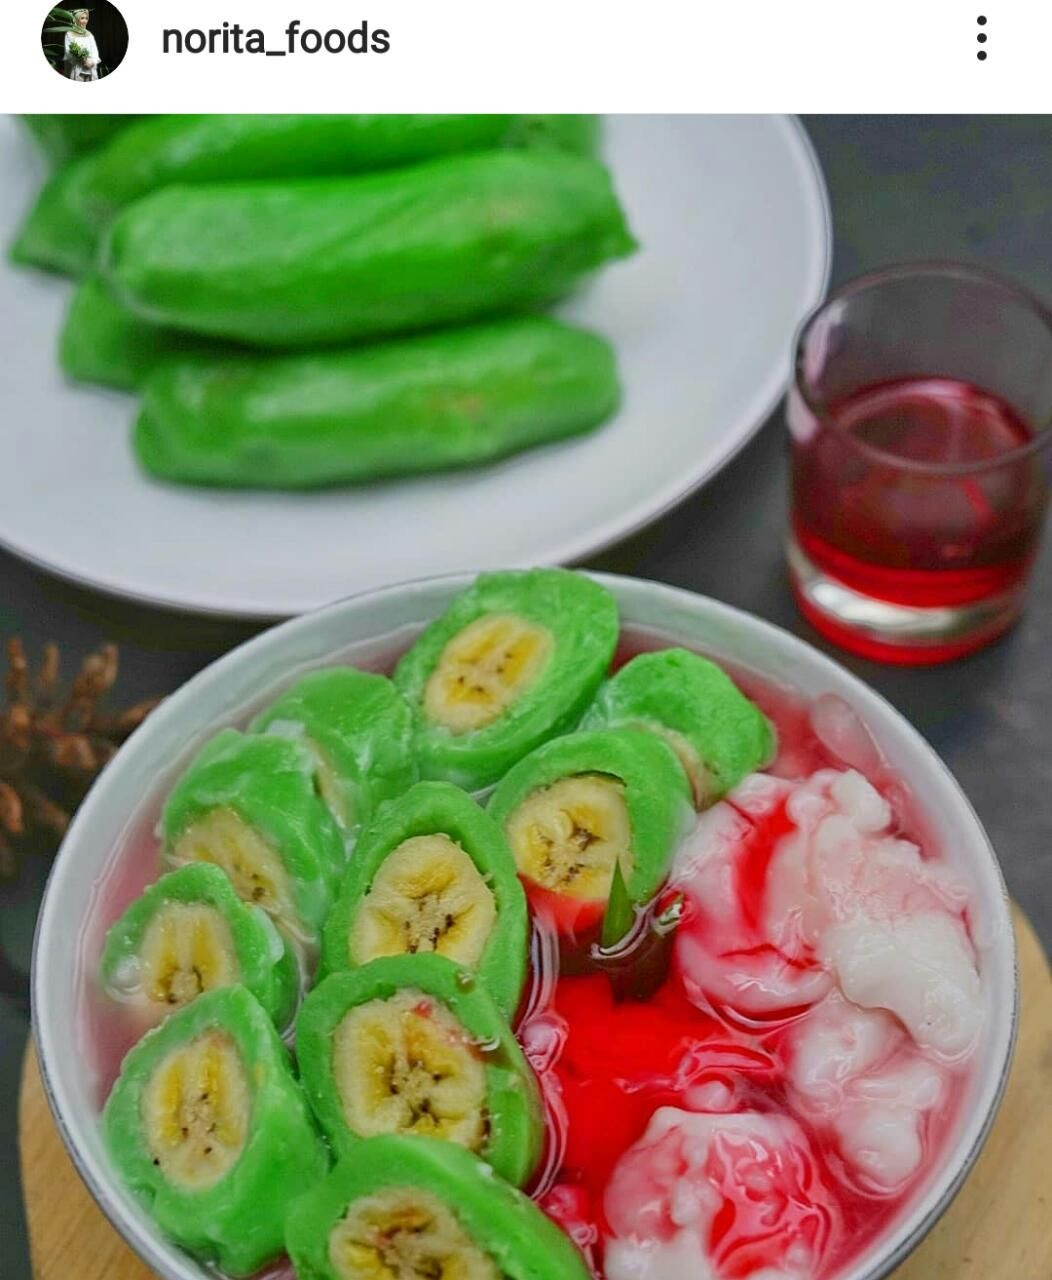pisang_ijo: (283, 927, 567, 1194)
